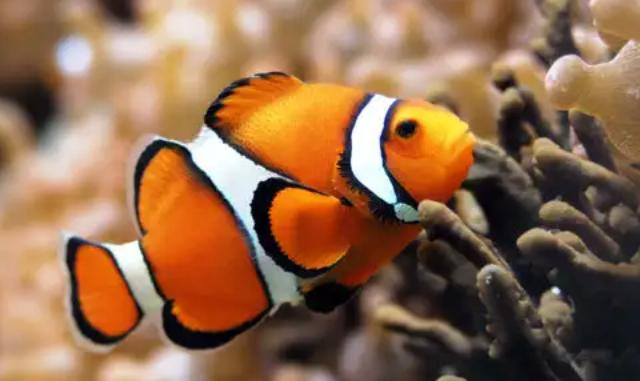Mulut: (431, 108, 501, 188)
Sirip Anal: (152, 292, 276, 362)
Sirip Dada: (234, 162, 360, 282)
Sirip Ekor: (49, 225, 165, 367)
Sirip Perut: (288, 242, 406, 332)
Sirip Punggung: (119, 52, 319, 242)
